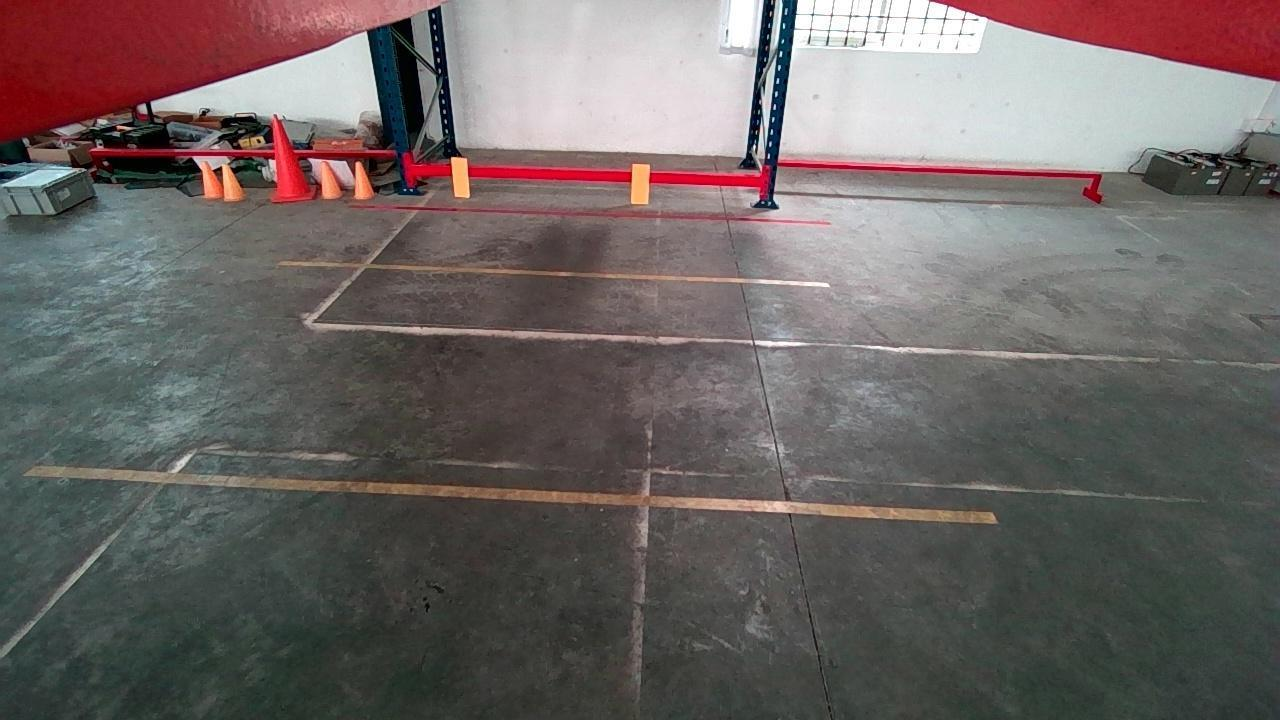h_rack: (412, 165, 761, 188)
orange_strip: (629, 166, 649, 201), (455, 156, 468, 194)
yellow_line: (22, 465, 997, 522), (278, 259, 833, 288)
